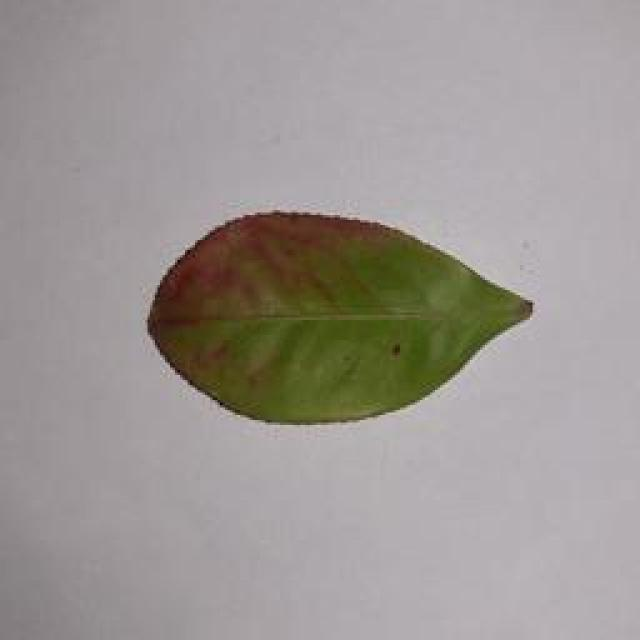Red Leaf Spot: (130, 207, 552, 449)
